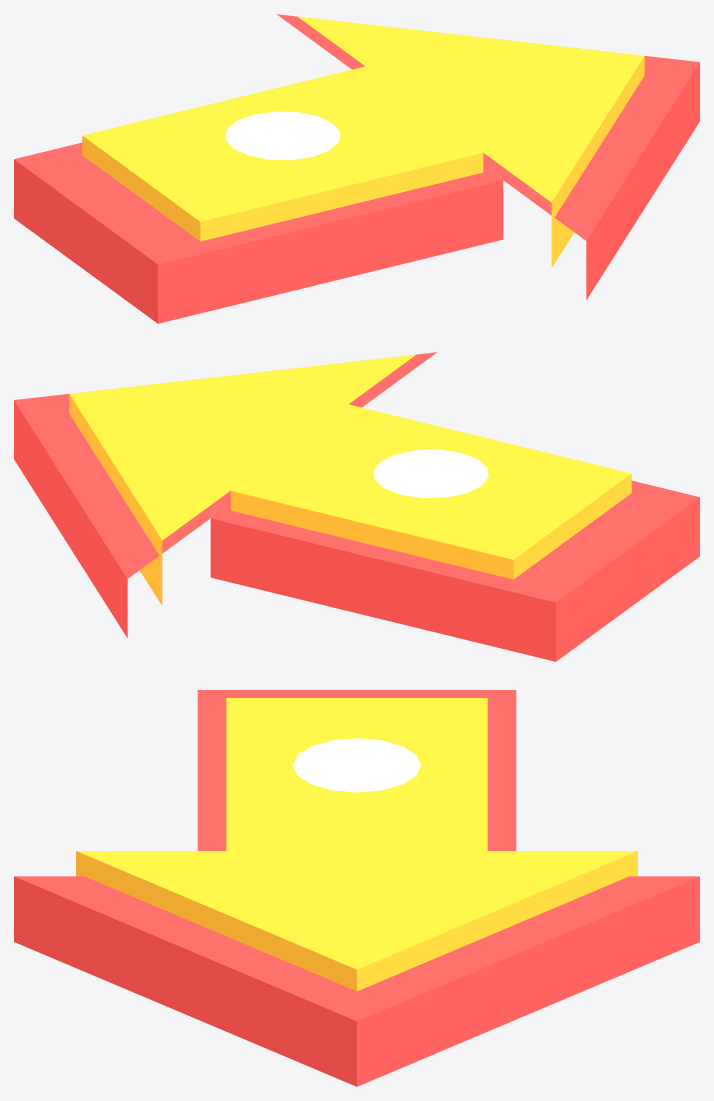
Rendered from pad_amber1red.glb.
3 renders of one model, top to bottom at view 1: azimuth 30°, elevation 25°; view 2: azimuth 150°, elevation 25°; view 3: azimuth 270°, elevation 25°, orthographic. The views are drawn at different scales.
Parts seen in each view (by area): view 1: pad_amber1red; view 2: pad_amber1red; view 3: pad_amber1red.
Boxes of the visible parts, bbox=[...] form: pad_amber1red: bbox=[14, 14, 699, 323]; pad_amber1red: bbox=[14, 352, 699, 661]; pad_amber1red: bbox=[14, 690, 699, 1086].
Bounding box in the file's own units: 0.039 × 0.0053 × 0.0342.
